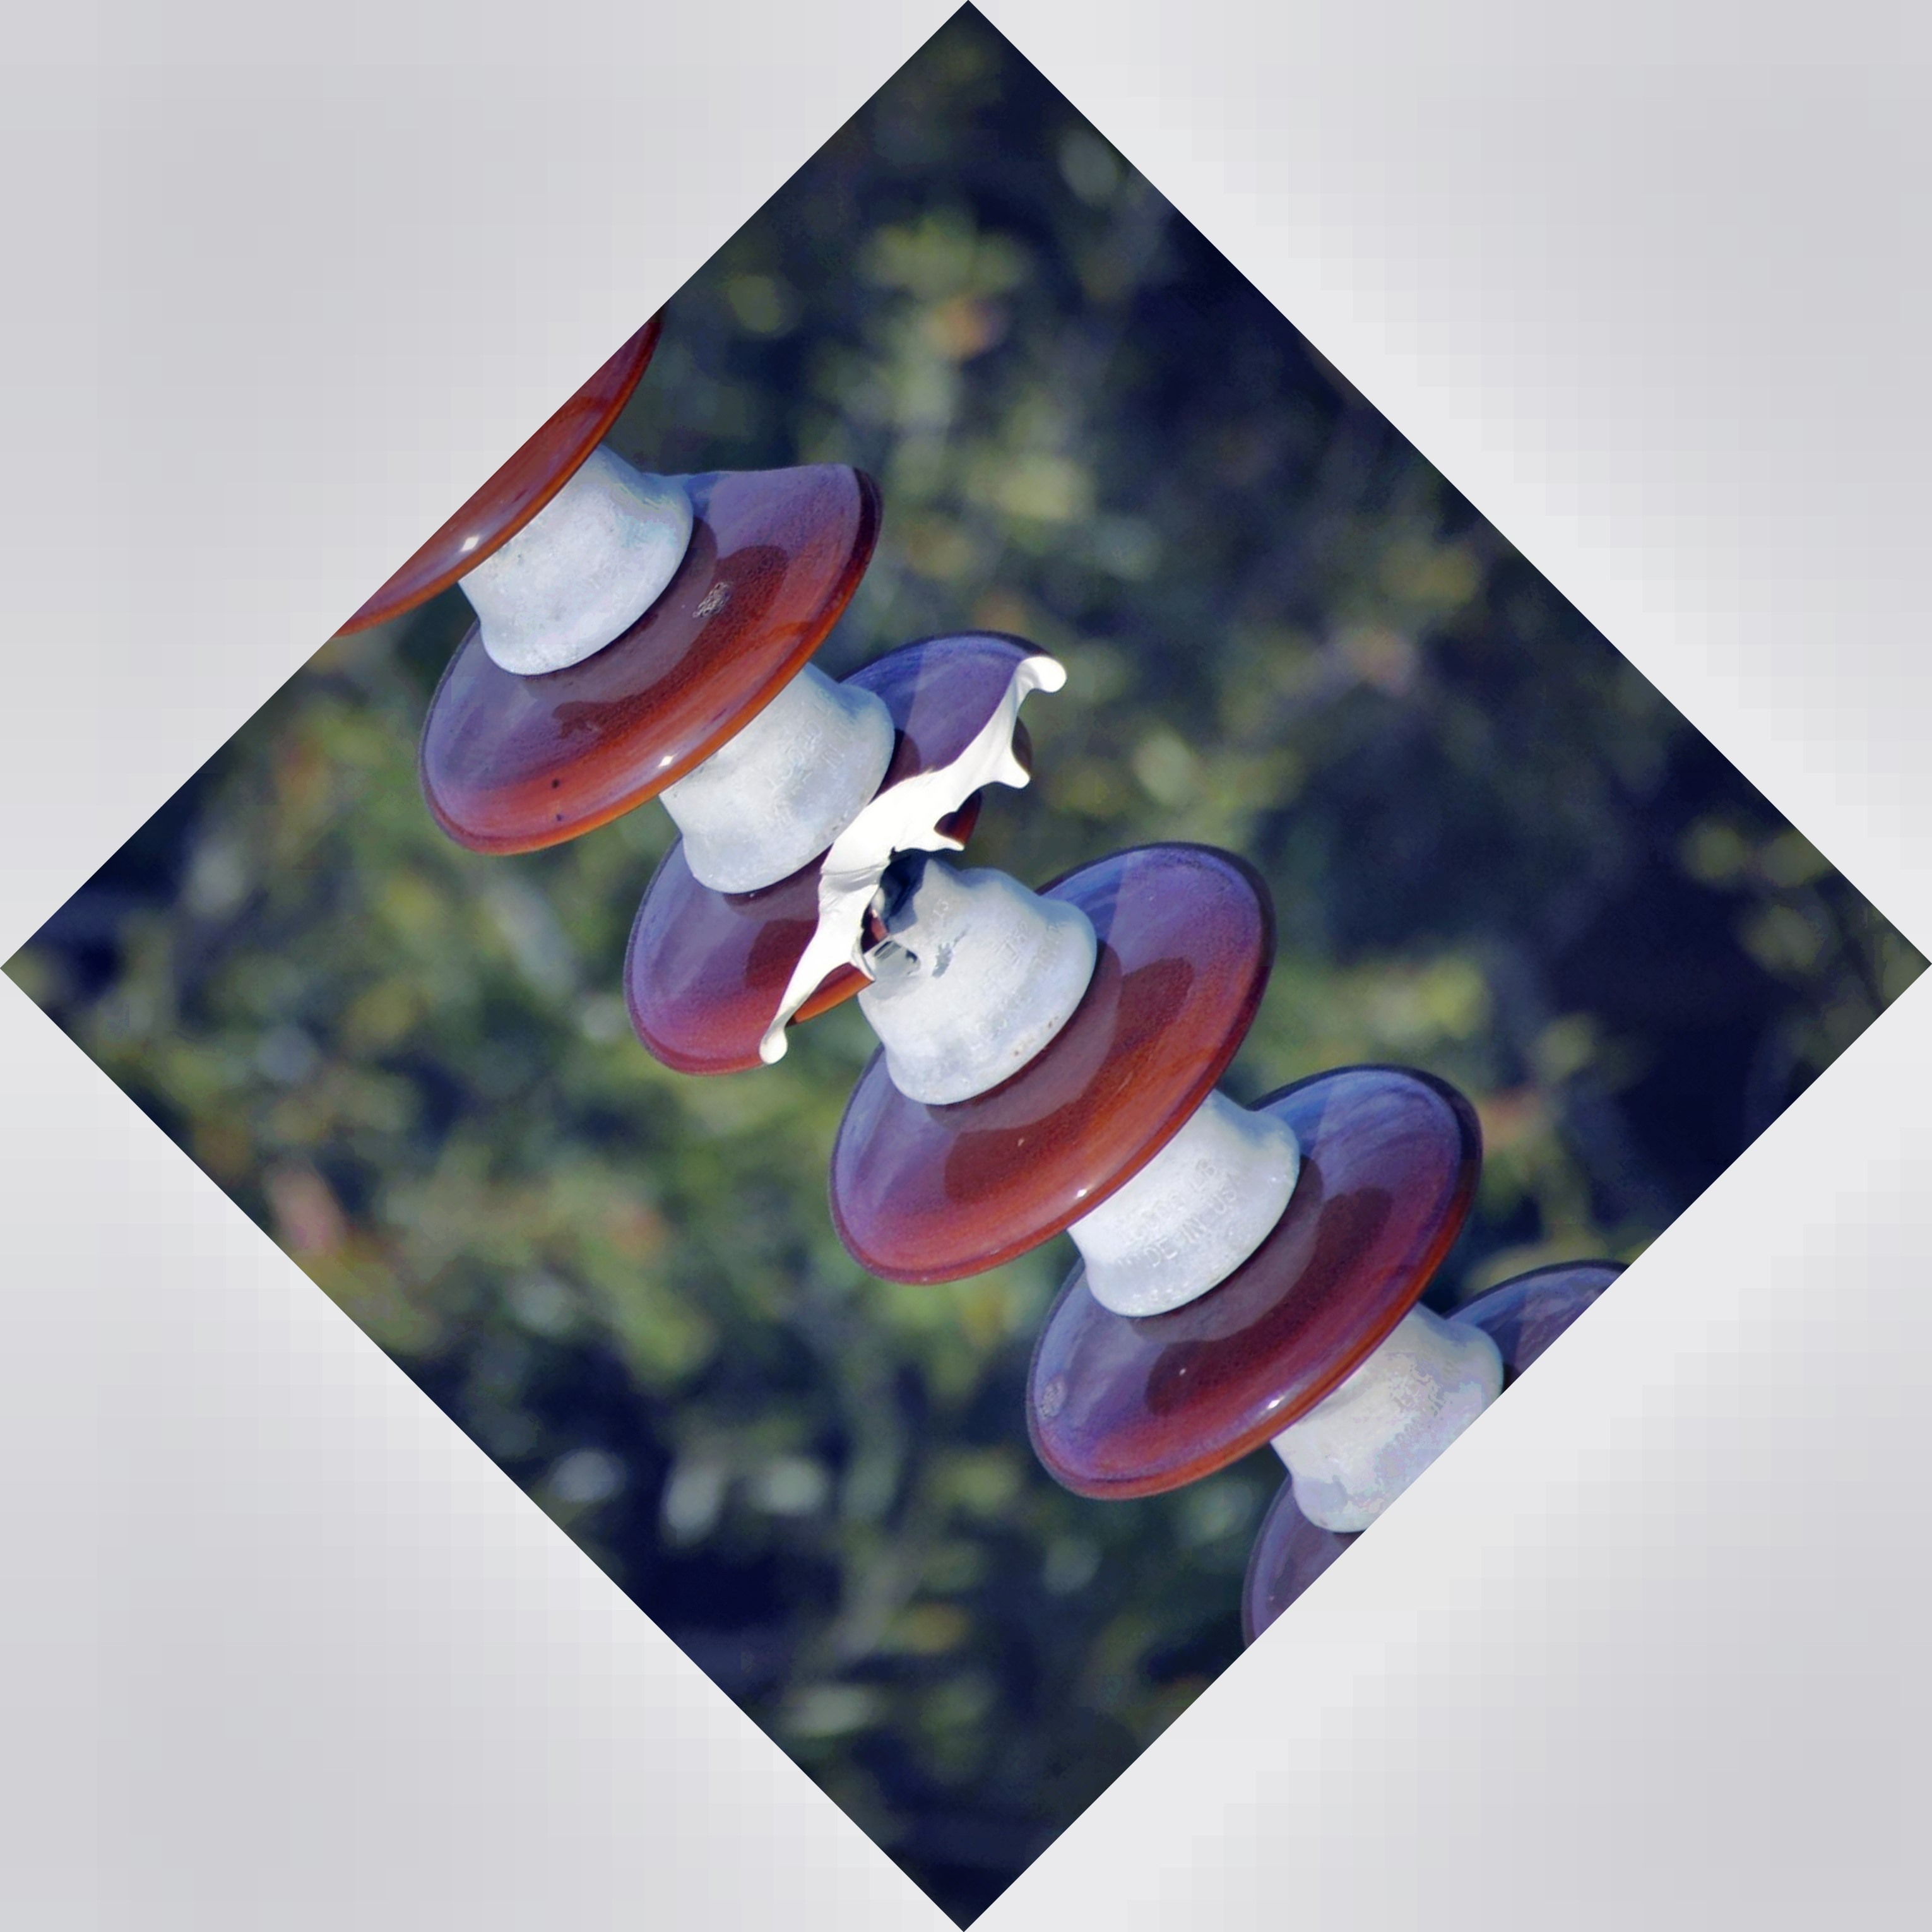insulator breakage: (617, 628, 1099, 1095)
